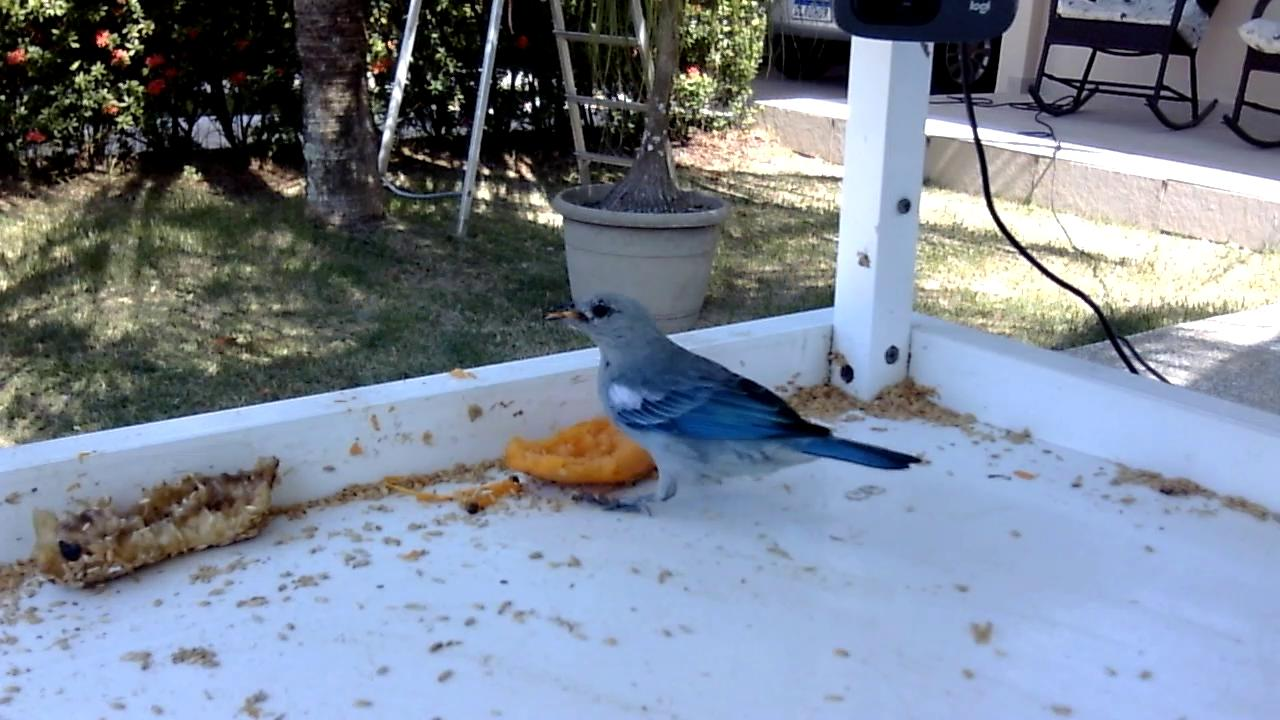sanhaco_da_amazonia: (546, 288, 926, 522)
